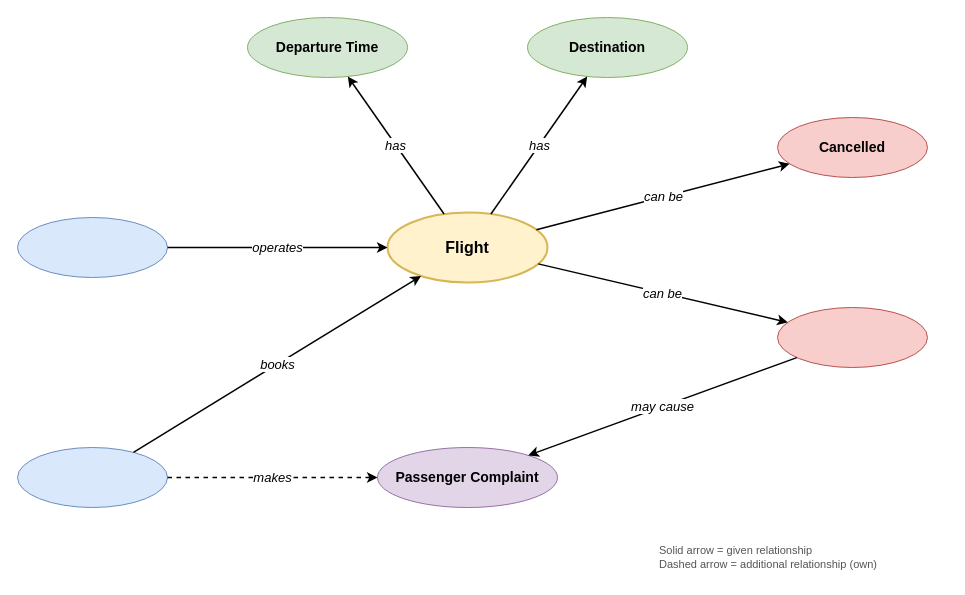
The diagram is 965 pixels wide and 595 high, and some of its shapes have lost their labels. Each missing label, with the centre of its shape:
"Airline" goes at point 92,247.
"Delayed (Delay)" goes at point 852,337.
"Passenger" goes at point 92,477.
